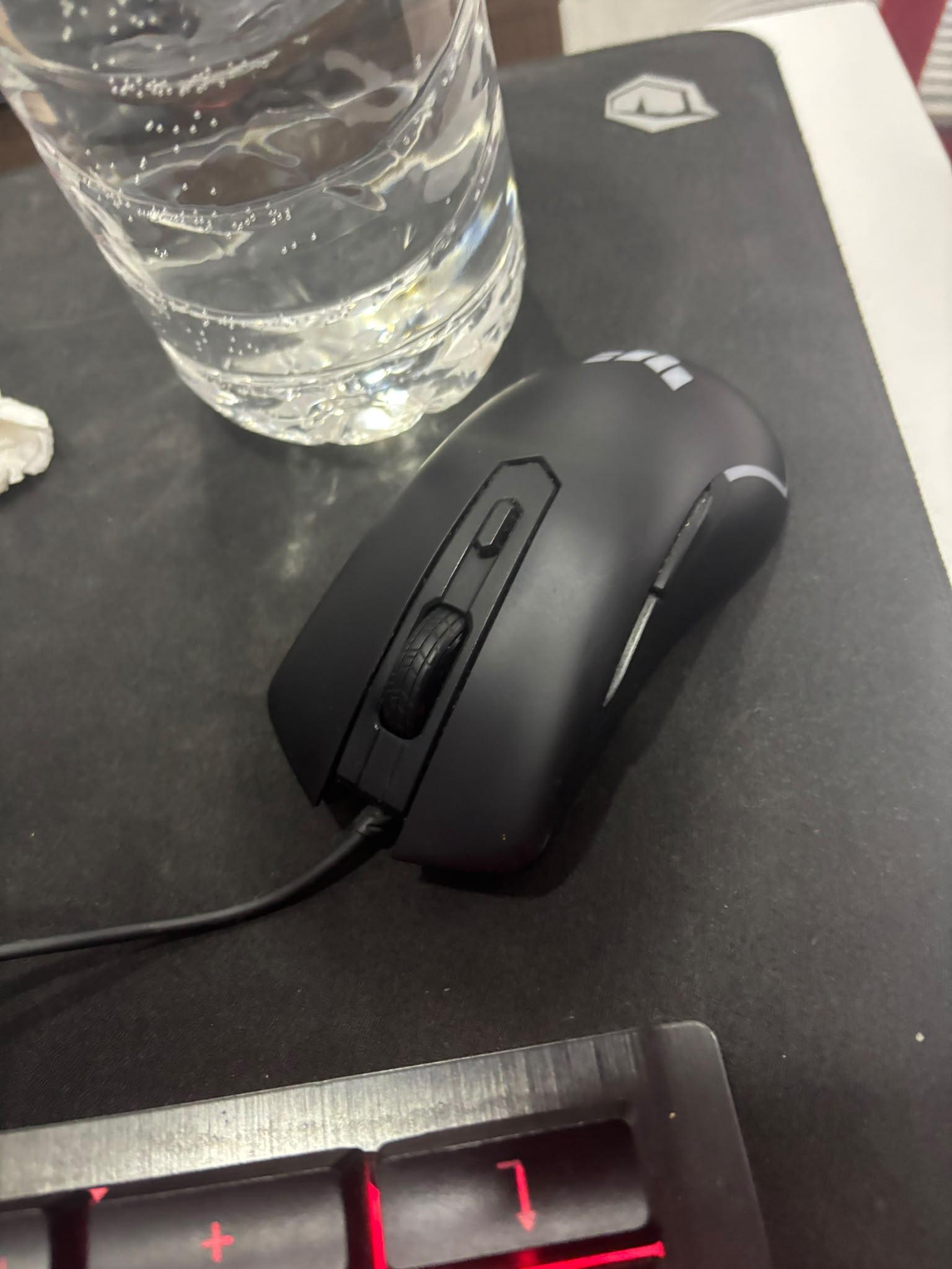cable: (0, 809, 395, 965)
keyboard: (0, 1017, 775, 1269)
mouse: (267, 347, 792, 875)
water bottel: (0, 0, 527, 449)
